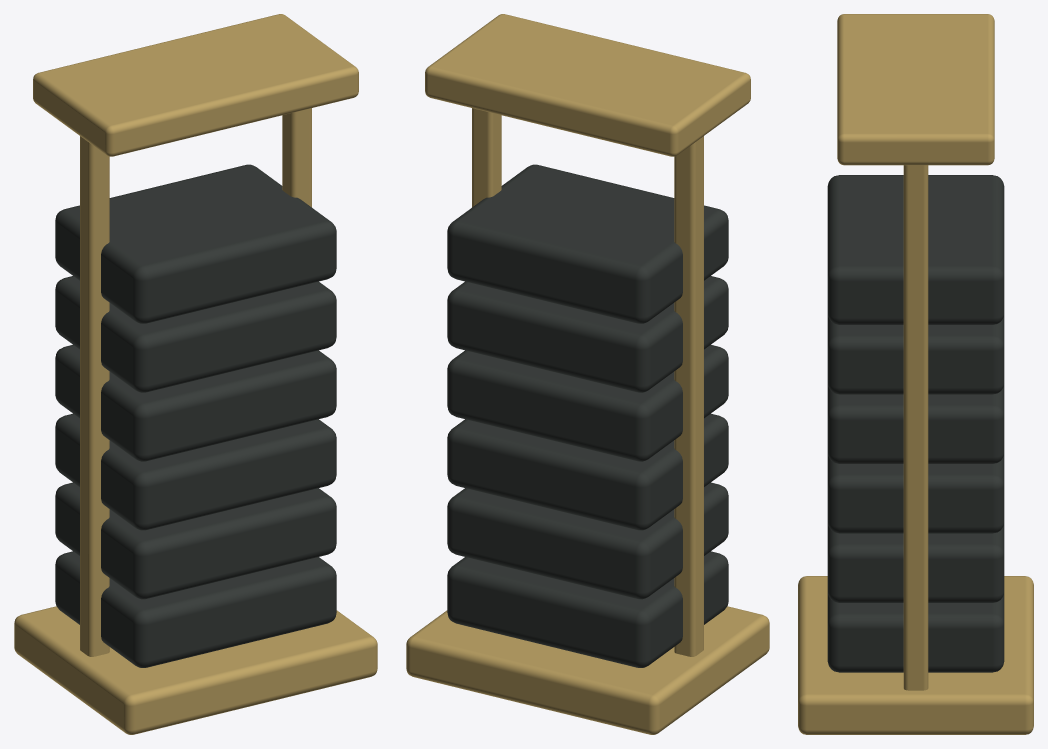
The model's file is abandoned-puppet-theatre-and-prop-vault-counterweight--95a472ca__31066.glb.
3 renders of one model, left to right at view 1: azimuth 30°, elevation 25°; view 2: azimuth 150°, elevation 25°; view 3: azimuth 270°, elevation 25°, orthographic.
Parts seen in each view (by area): view 1: counterweight-cradle; view 2: counterweight-cradle; view 3: counterweight-cradle.
Part boxes in pixels (<box>): counterweight-cradle: <box>14,14,377,734</box>; counterweight-cradle: <box>406,14,769,734</box>; counterweight-cradle: <box>798,14,1033,734</box>.
Size of the model in its own units: 0.3 by 0.675 by 0.24.
